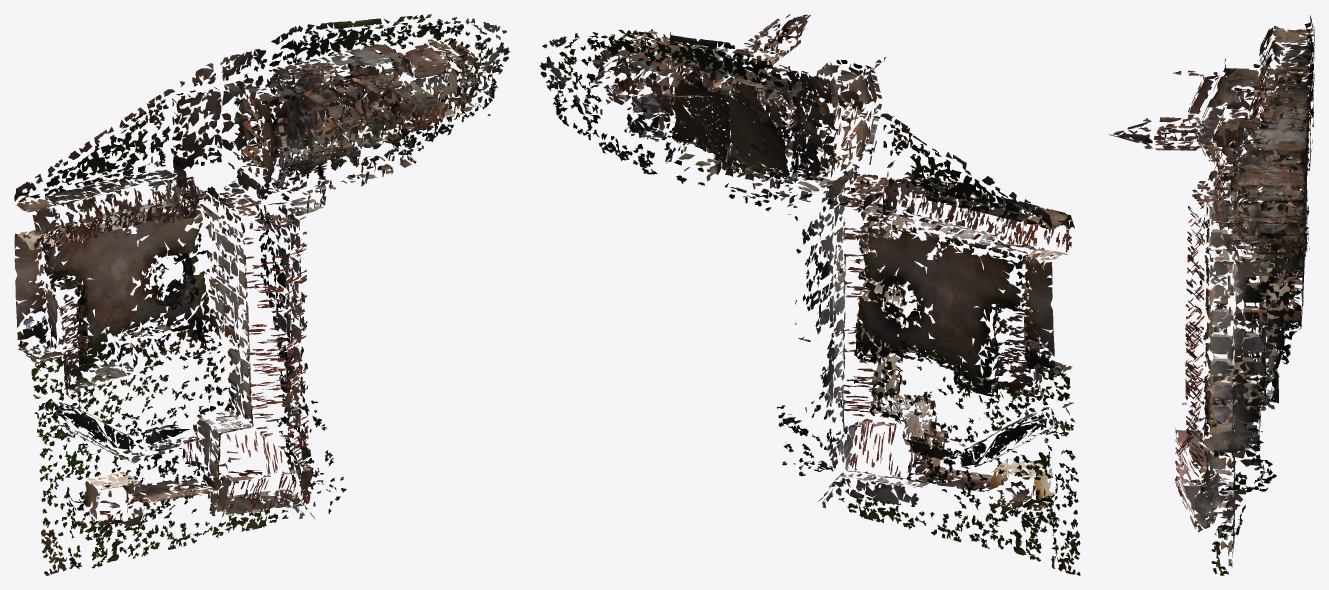
3 views of the same model, side by side, from view 1: azimuth 30°, elevation 25°; view 2: azimuth 150°, elevation 25°; view 3: azimuth 270°, elevation 25° (orthographic). The views are drawn at different scales.
Bounding box in the file's own units: 98.82 × 88.14 × 31.43.
1 material, 1 textured.
